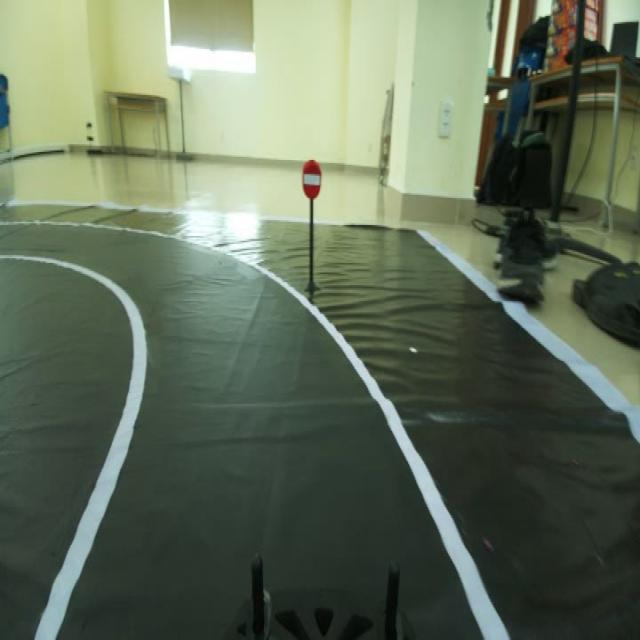no_entry: (298, 154, 333, 207)
